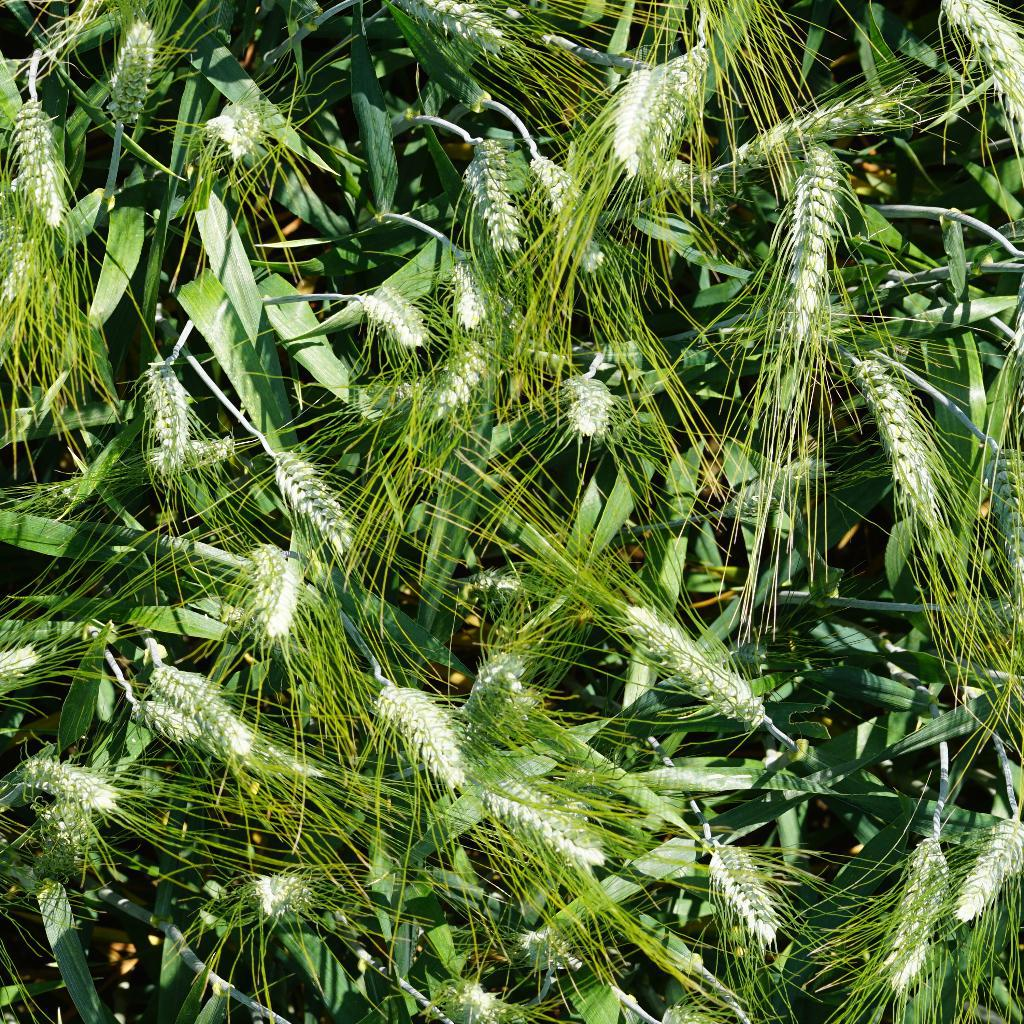0-0: (610, 591, 768, 725), (852, 351, 956, 538), (762, 135, 846, 346), (144, 651, 291, 763), (466, 761, 613, 867), (640, 41, 729, 189), (367, 665, 474, 784), (739, 83, 904, 152), (2, 90, 81, 232), (269, 443, 367, 553), (885, 836, 953, 994), (529, 153, 619, 265), (14, 748, 144, 825), (706, 828, 789, 948), (120, 355, 201, 477), (706, 452, 837, 525), (940, 0, 1024, 111), (239, 534, 321, 646), (460, 628, 541, 737), (602, 53, 668, 178), (950, 813, 1024, 921), (468, 133, 530, 253), (130, 425, 241, 492), (384, 0, 509, 58), (400, 354, 504, 418), (30, 800, 107, 885), (103, 11, 156, 133), (342, 370, 448, 427), (347, 273, 426, 347), (447, 251, 515, 335), (194, 100, 272, 169), (503, 922, 590, 983), (443, 963, 529, 1024), (982, 444, 1024, 562), (563, 370, 624, 451), (0, 227, 44, 333), (137, 692, 212, 746), (0, 638, 52, 713), (247, 869, 316, 925), (458, 567, 539, 611), (43, 472, 113, 507)
